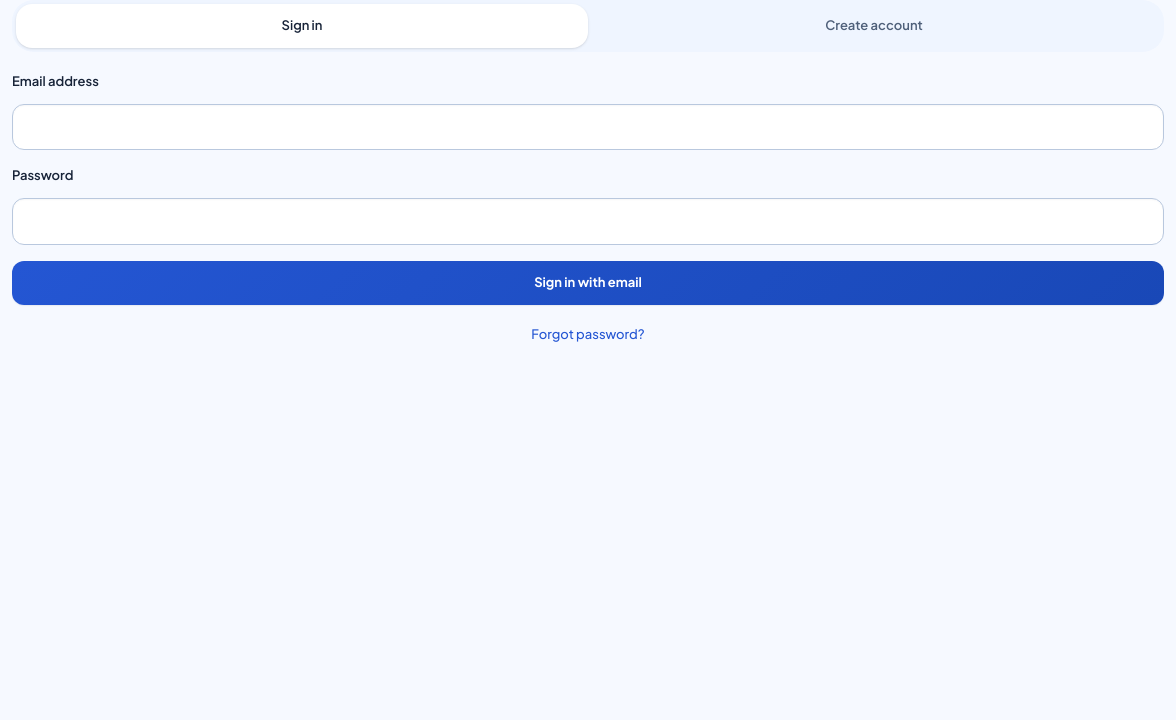
Test: EmailPasswordAuth › requests confirmation when sign-up does not return a session
Click the button "Create account": click(874, 26) [588,4,1160,48]
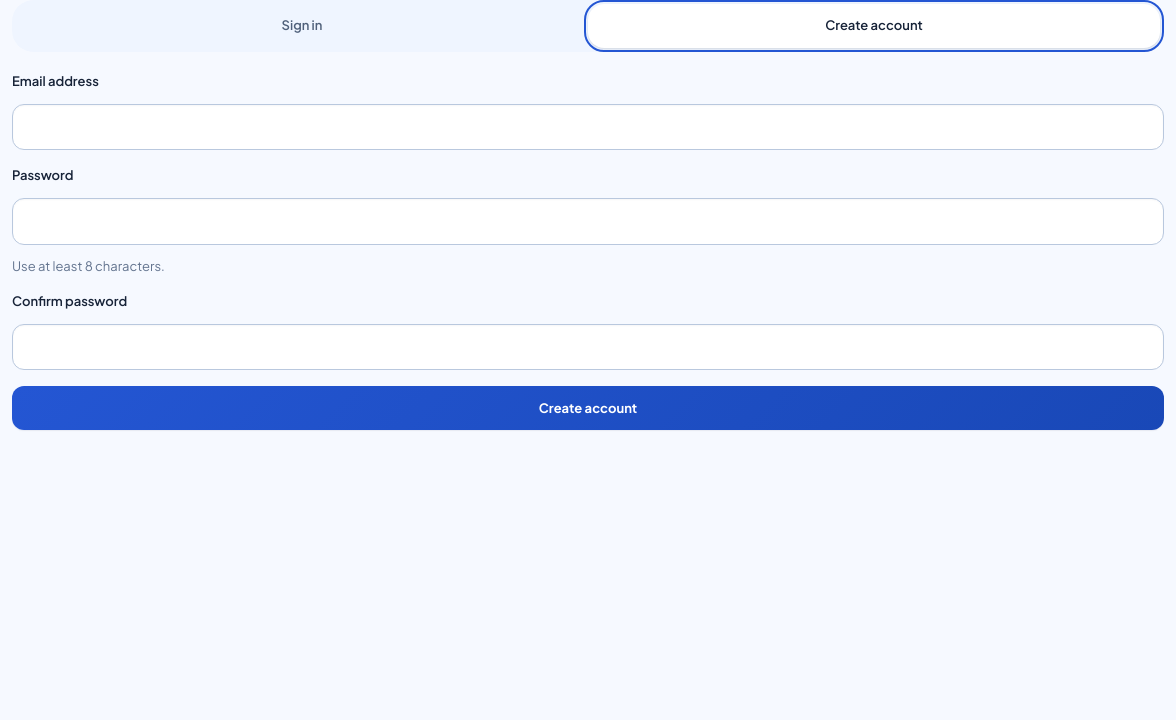
In the field labelled "Email address": (588, 127) [12,104,1164,150], type "candidate@example.com"
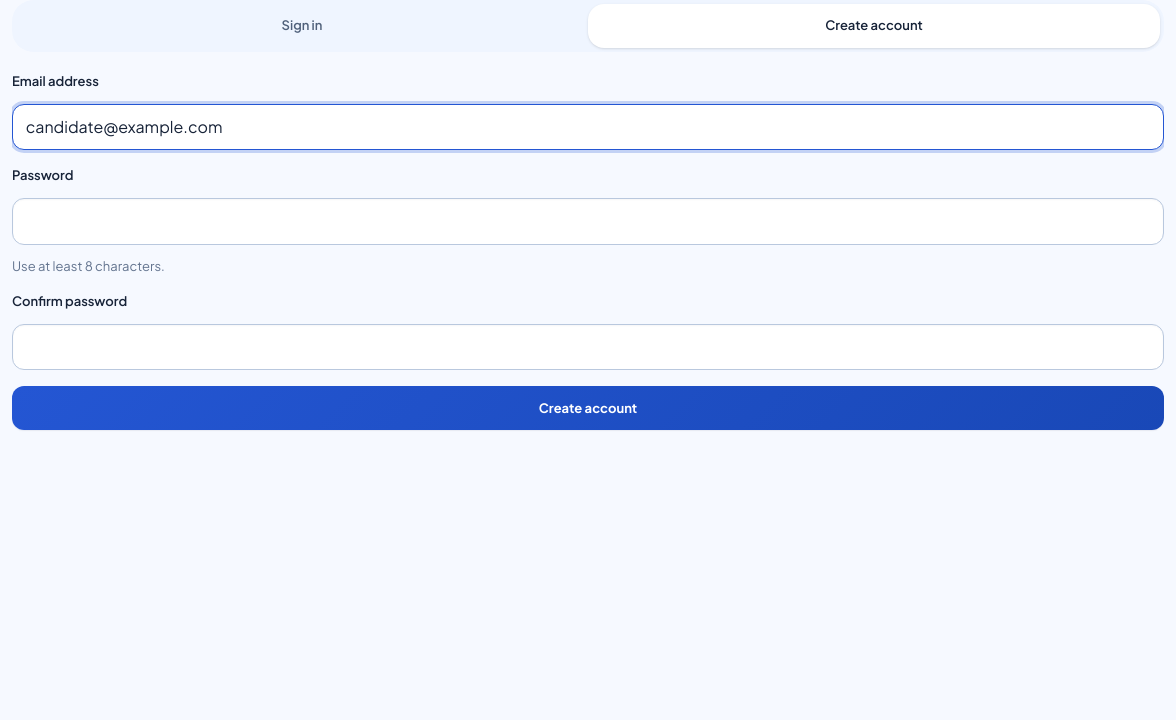
In the password field labelled "Password": (588, 221) [12,198,1164,245], type "password123"
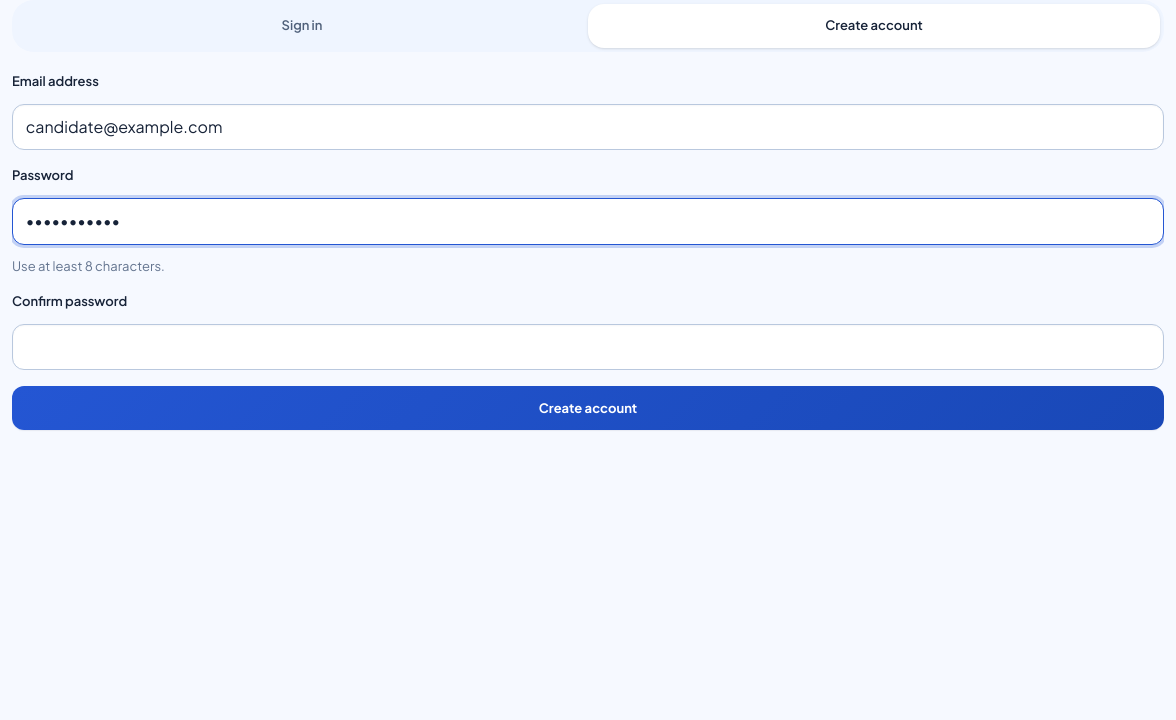
In the password field labelled "Confirm password": (588, 347) [12,324,1164,370], type "password123"
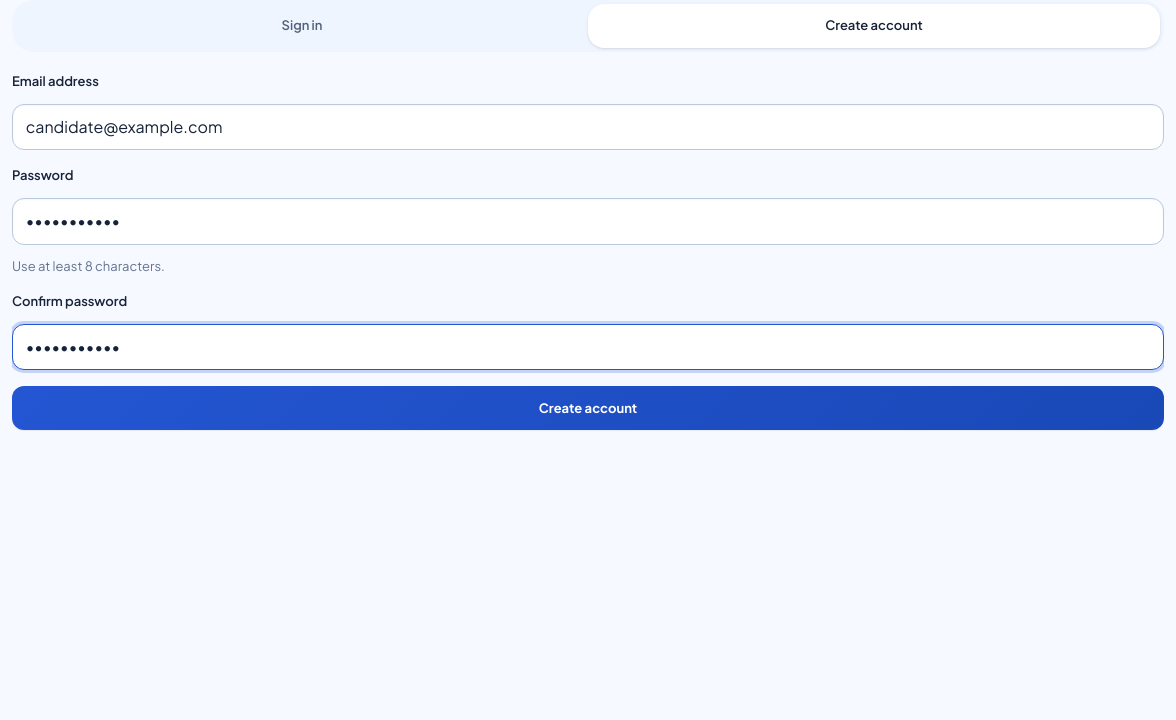
Click the button "Create account" below "Confirm password": click(588, 408) [12,386,1164,430]
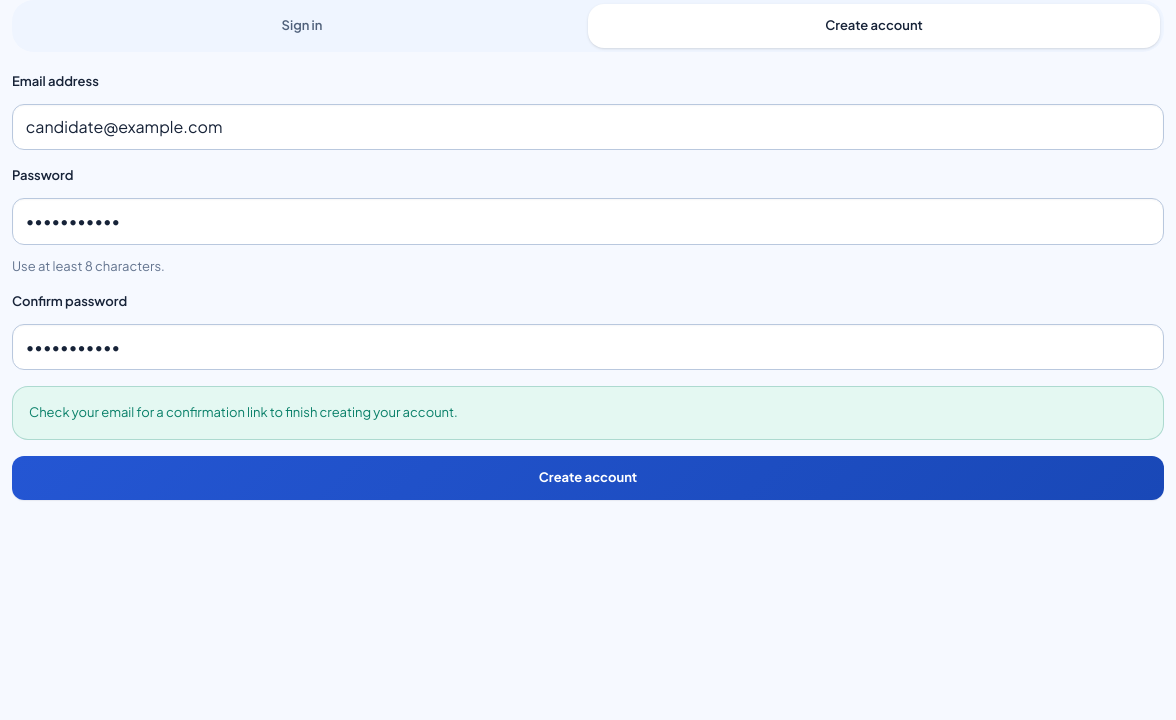
Expected: the message shows "Check your email", [29,404,458,420]
